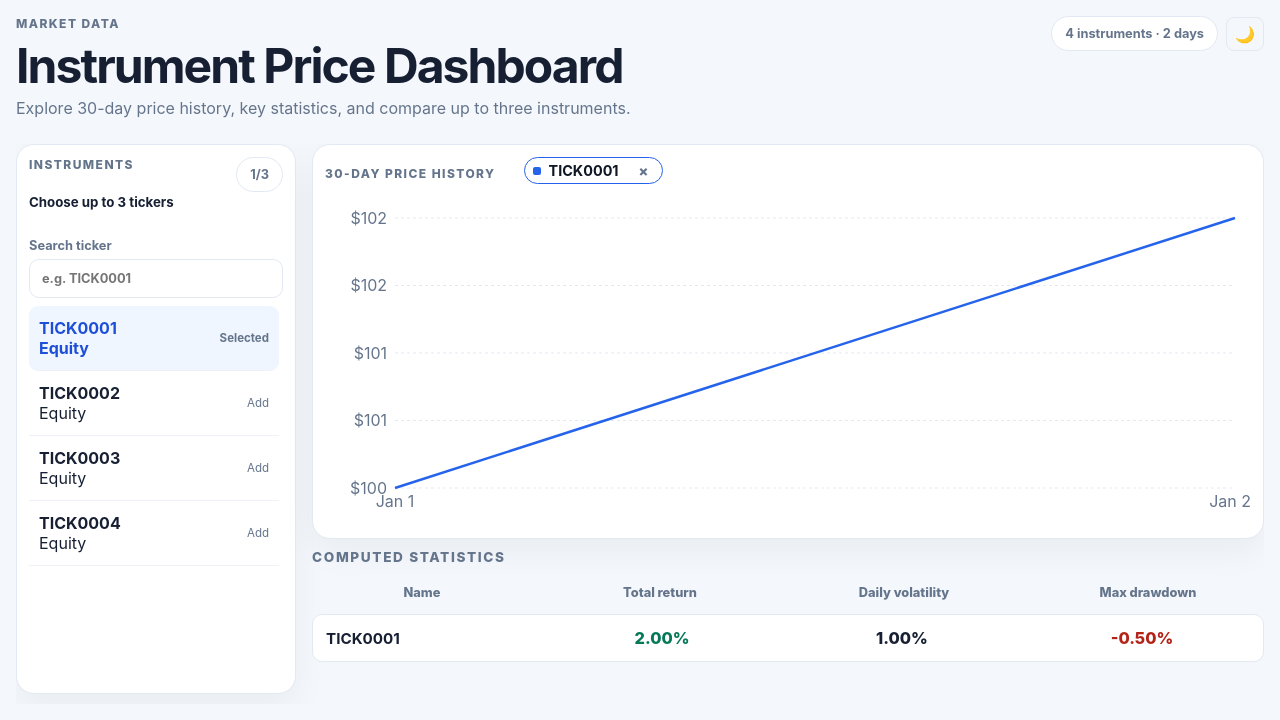
Scenario: App › limits comparison to three selected instruments
Expected: the text "1/3" is shown, [236,157,283,192]
Click the button "TICK0002 Equity Add": (154, 404) [29,371,279,436]
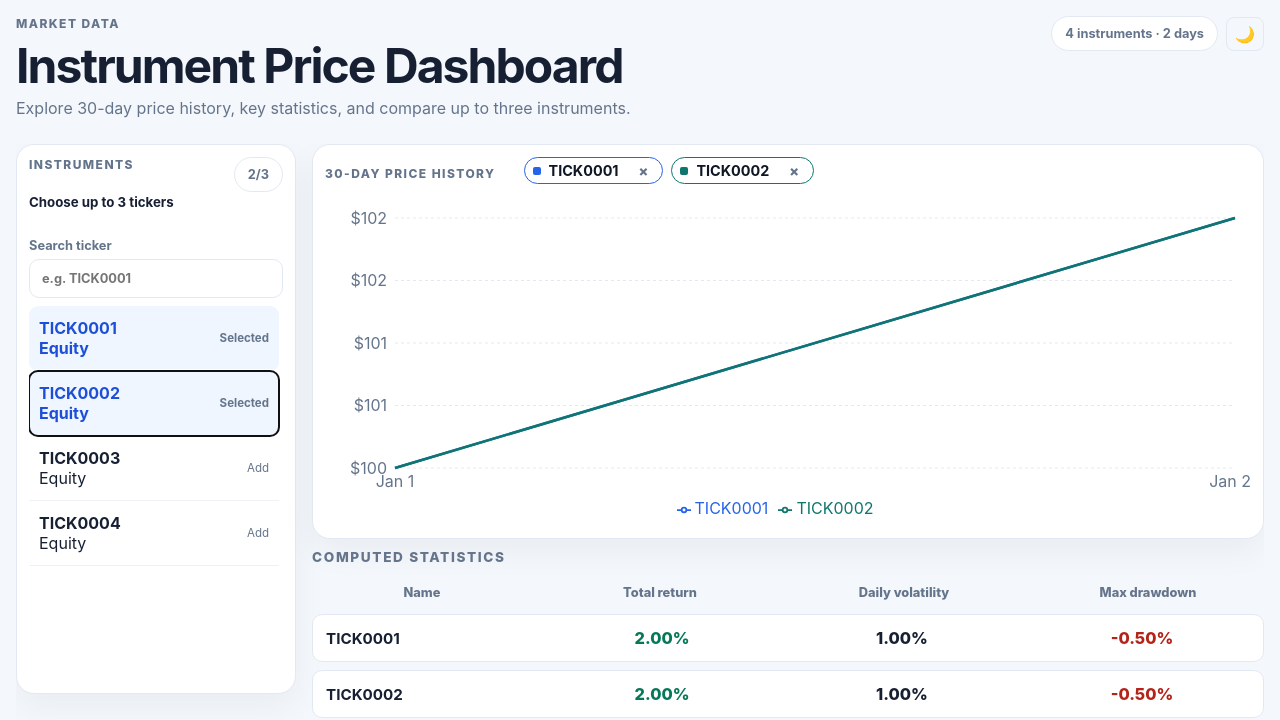
Click the button "TICK0003 Equity Add": (154, 469) [29,436,279,501]
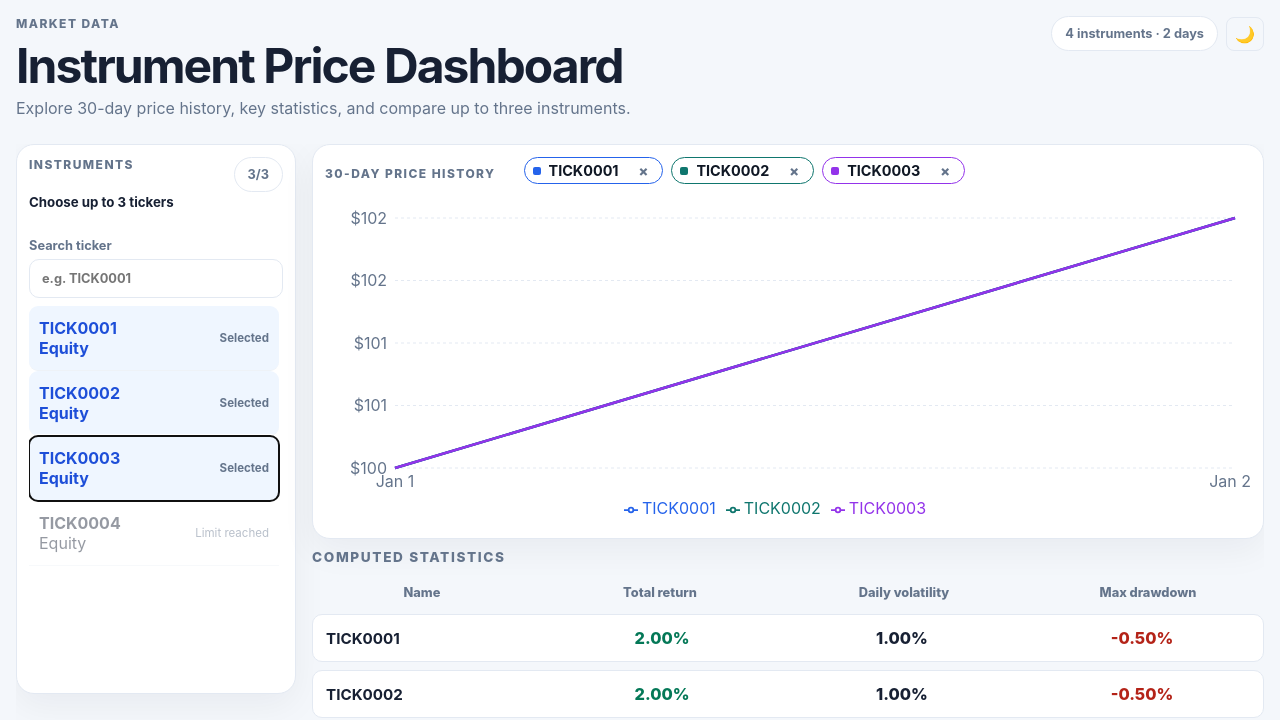
Expected: the text "3/3" is shown, [234,157,283,192]
Expected: the button "TICK0004 Equity Limit reached" is disabled, [29,501,279,566]
Click the button named "Unselect TICK0002": (794, 170) [783,162,805,179]
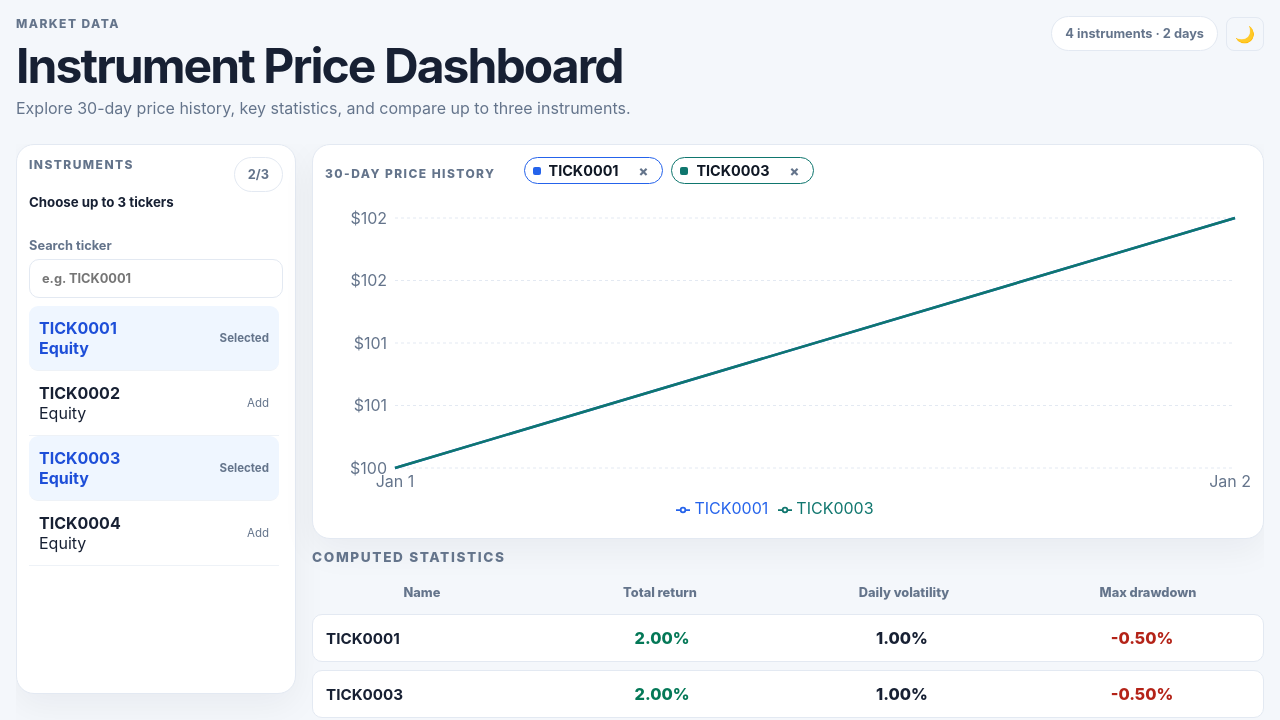
Expected: the text "2/3" is shown, [234,157,283,192]
Expected: the button "TICK0004 Equity Add" is enabled, [29,501,279,566]
